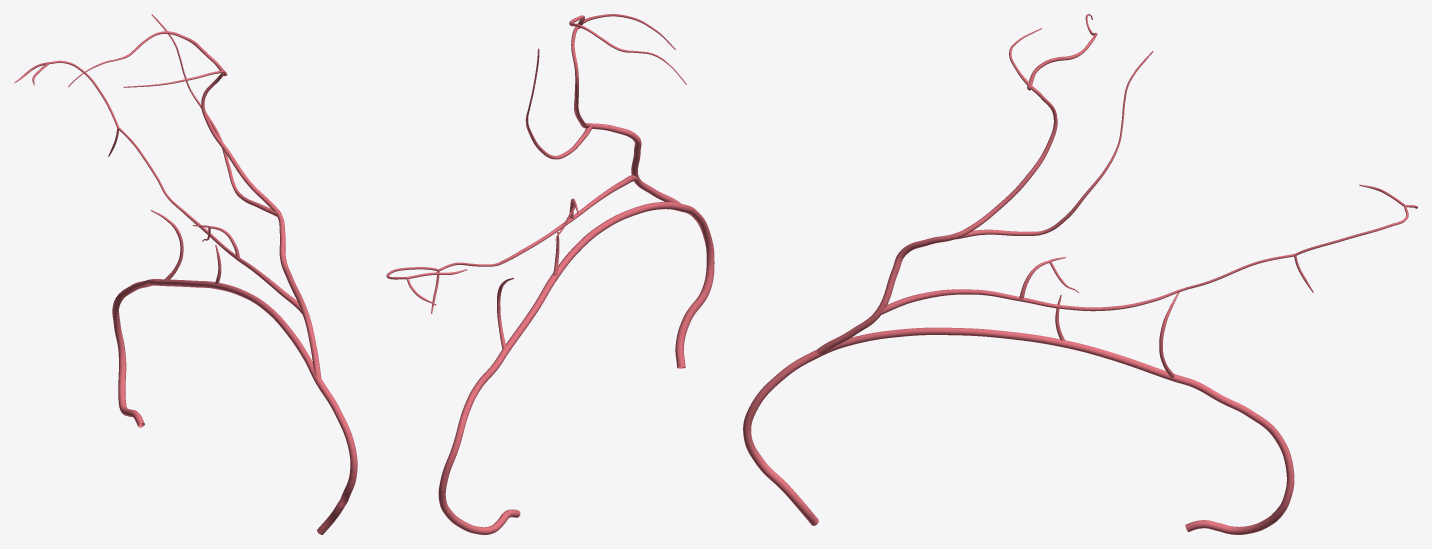
The picture shows the model from 3 angles, left to right: view 1: azimuth 30°, elevation 25°; view 2: azimuth 150°, elevation 25°; view 3: azimuth 270°, elevation 25°; orthographic projection. The views are drawn at different scales.
Parts seen in each view (by area): view 1: ZA_85745bc6cb18882d; view 2: ZA_85745bc6cb18882d; view 3: ZA_85745bc6cb18882d.
Part boxes in pixels (box(x1,y1,x2,y2)): ZA_85745bc6cb18882d: box(14, 14, 357, 534); ZA_85745bc6cb18882d: box(386, 14, 714, 534); ZA_85745bc6cb18882d: box(743, 14, 1417, 534).
Bounding box in the file's own units: 0.0312 × 0.0844 × 0.1064.
